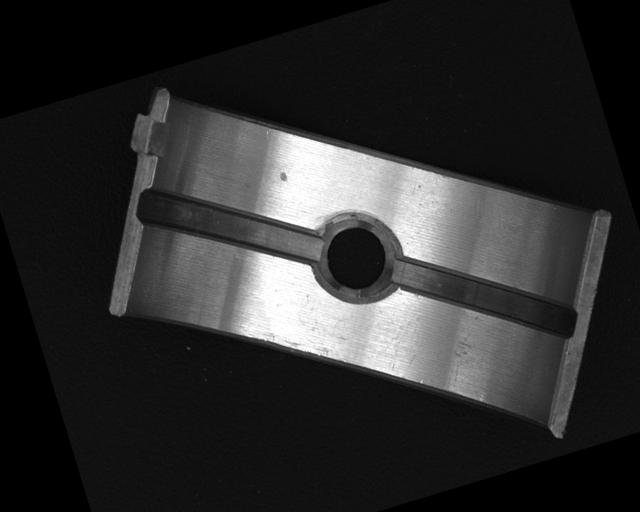bruise: (277, 168, 290, 182)
gap: (388, 214, 582, 380), (131, 146, 325, 308)
hole: (312, 207, 405, 308)
